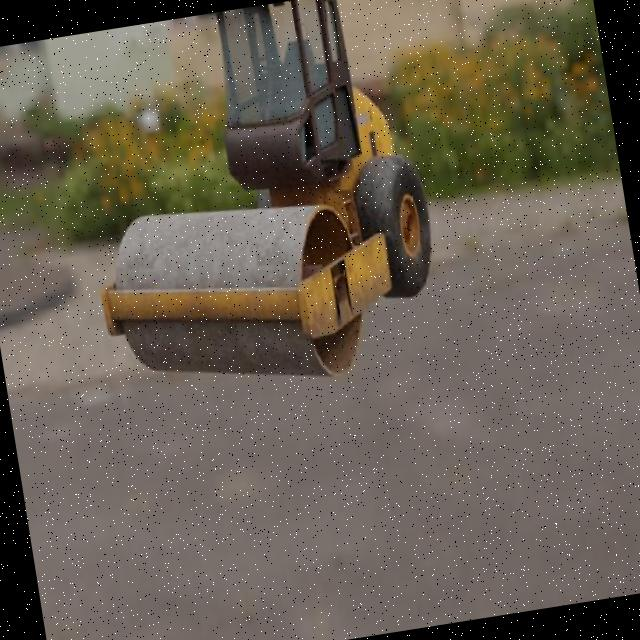Roller: (58, 0, 451, 411)
